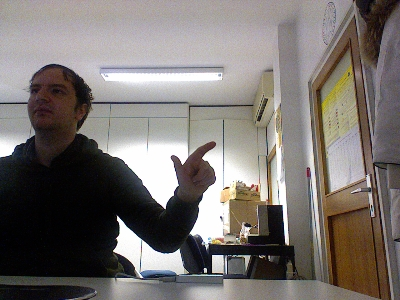枪: (170, 140, 217, 197)
